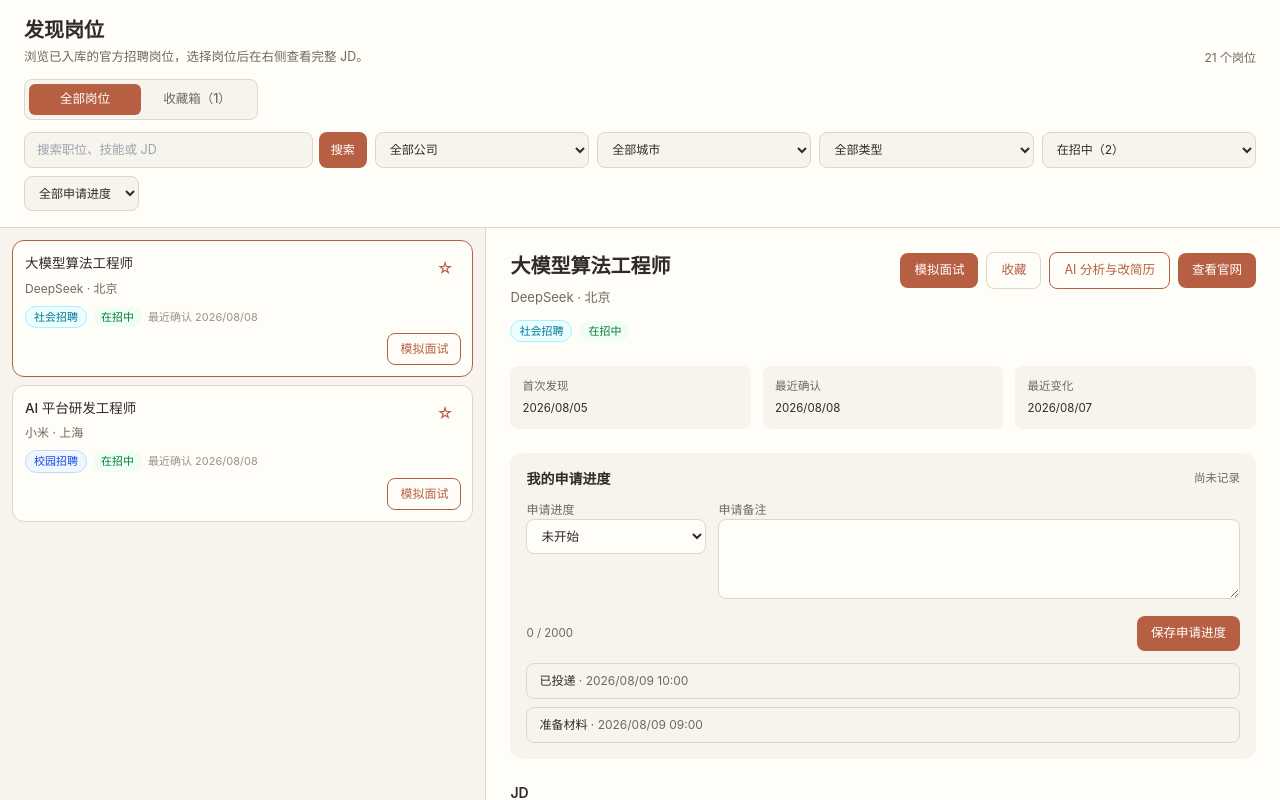
Test case: CareerJobsView › opens one shared interview setup from list and detail entries
Expected: the heading "JD" is shown, [510, 784, 529, 799]
Expected: the button with aria-label "从岗位列表模拟面试：大模型算法工程师" is shown, [387, 333, 461, 365]
Step 1. Click the button with aria-label "从岗位列表模拟面试：AI 平台研发工程师" → (424, 494), box [387, 478, 461, 510]
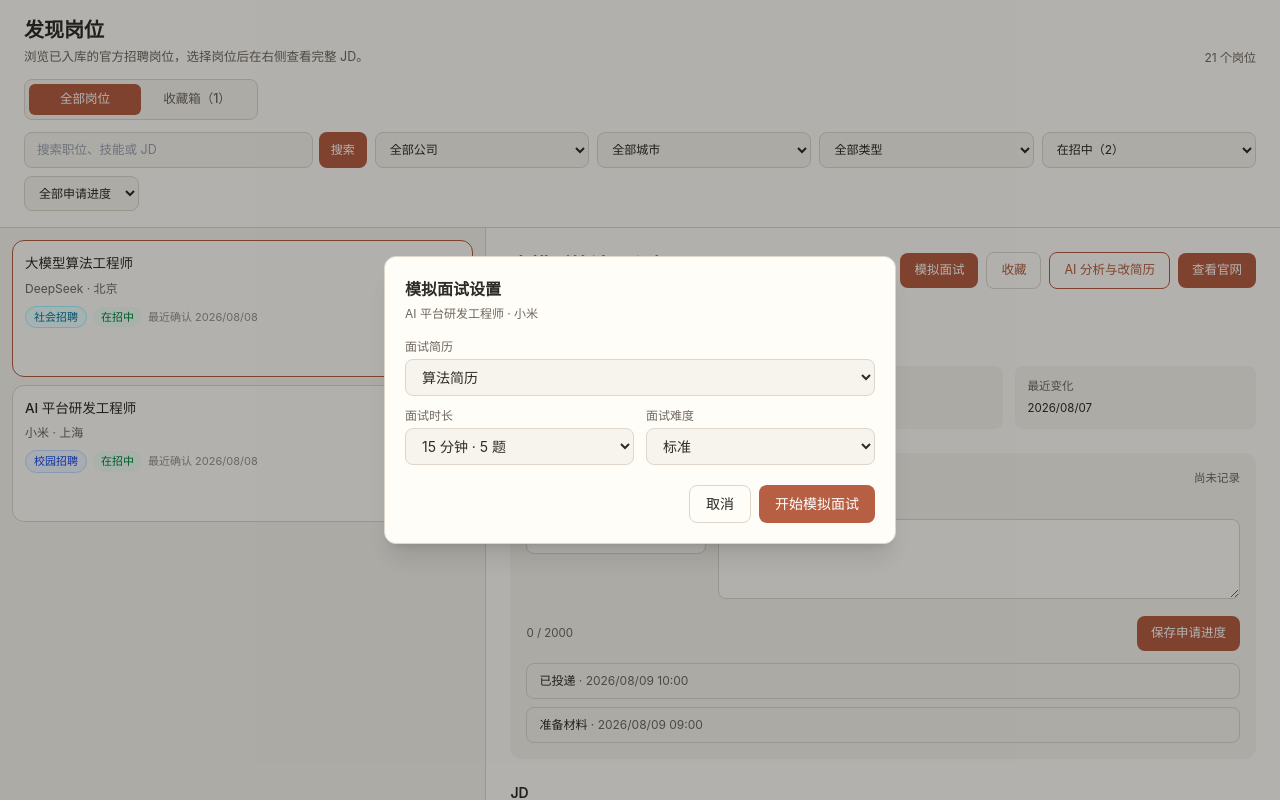
Expected: the text "AI 平台研发工程师" is shown, [25, 400, 136, 416]
Expected: the dialog "模拟面试设置" is shown, [384, 256, 896, 544]
